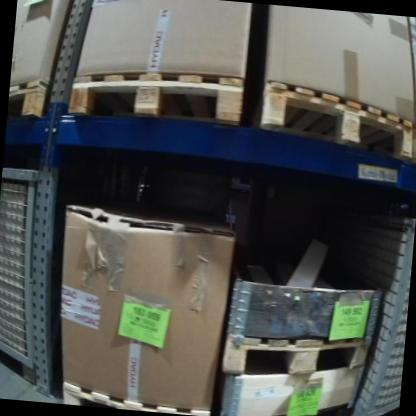pallet: (250, 81, 416, 164), (66, 58, 245, 132), (221, 327, 372, 388), (58, 381, 213, 416), (7, 73, 53, 124)
stillage: (327, 198, 416, 416), (0, 169, 50, 389)
